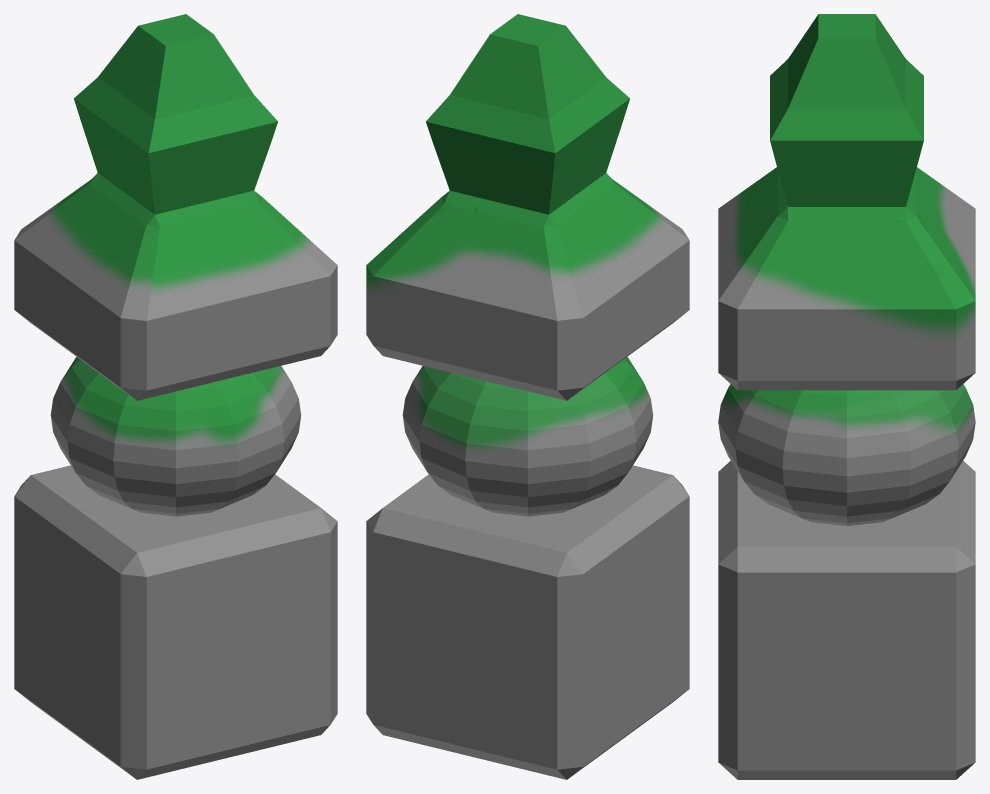
File: estatuaformas.fbx
3 views of the same model, side by side, from view 1: azimuth 30°, elevation 25°; view 2: azimuth 150°, elevation 25°; view 3: azimuth 270°, elevation 25° (orthographic). The views are drawn at different scales.
Parts seen in each view (by area): view 1: Cube; view 2: Cube; view 3: Cube.
Part boxes in pixels (bbox=[...]): Cube: bbox=[14, 14, 337, 779]; Cube: bbox=[366, 14, 689, 779]; Cube: bbox=[718, 14, 975, 779].
Bounding box in the file's own units: 200 × 606 × 200.
Materials: 1 (1 with a texture image).
